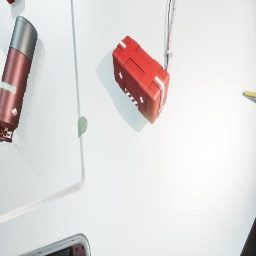FirstAidBox ,: (112, 36, 170, 124), (6, 0, 16, 4)
NitrogenTank ,: (0, 16, 38, 142)
